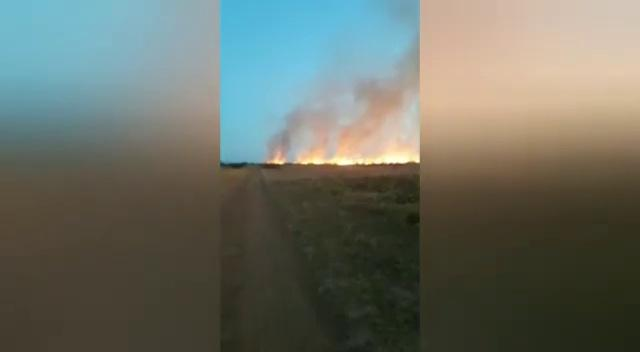fire: (298, 148, 415, 164)
